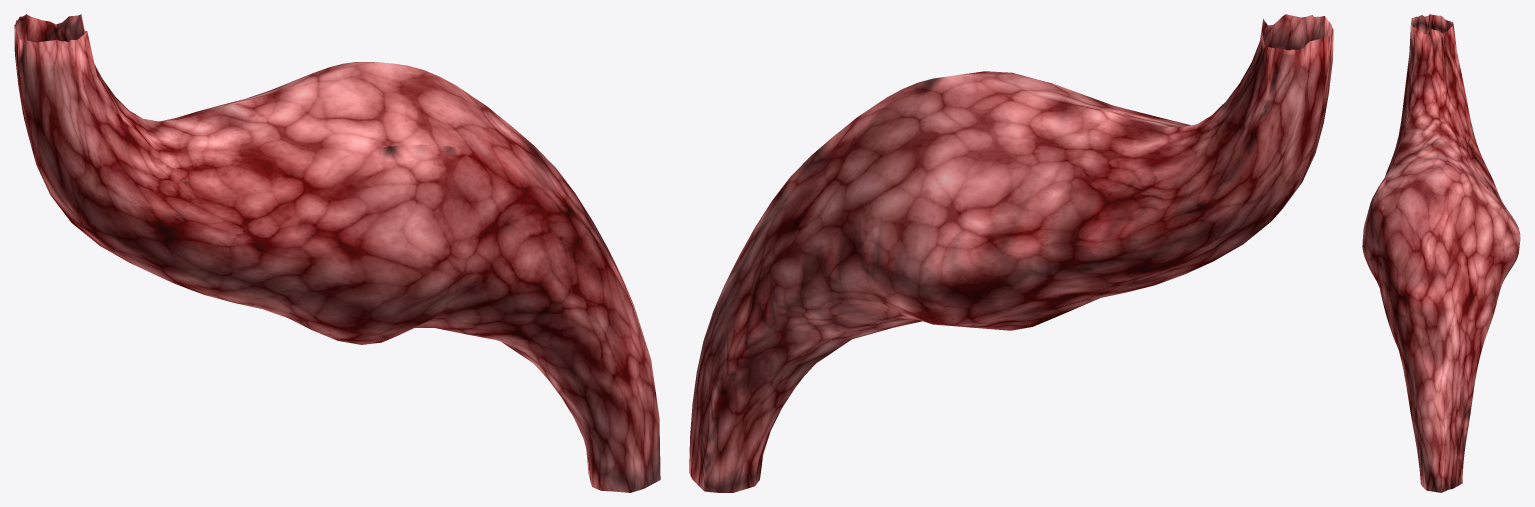
File: bellycut 1.fbx
3 views of the same model, side by side, from view 1: azimuth 30°, elevation 25°; view 2: azimuth 150°, elevation 25°; view 3: azimuth 270°, elevation 25° (orthographic). The views are drawn at different scales.
Visible parts, largest first — view 1: belly; view 2: belly; view 3: belly.
Part boxes in pixels (x1,y1,x2,y2): belly: (14,14,660,492); belly: (689,14,1333,492); belly: (1362,14,1520,492).
Bounding box in the file's own units: 9999 × 8895 × 4029.
